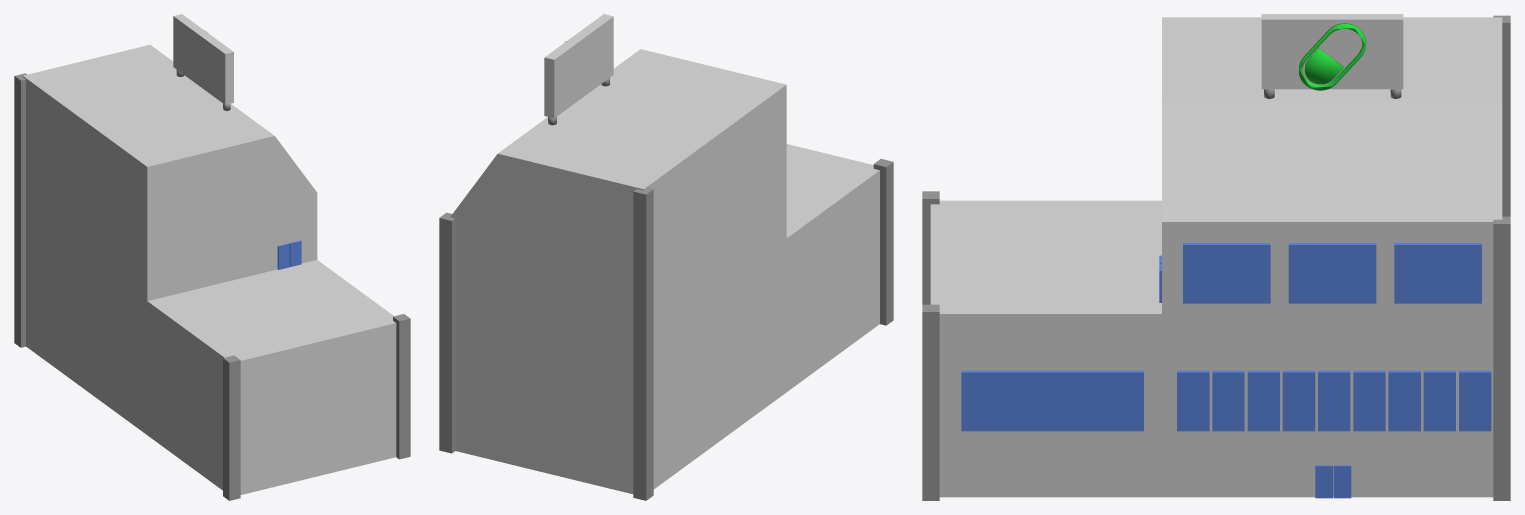
Rendered from hospital.fbx.
The picture shows the model from 3 angles, left to right: view 1: azimuth 30°, elevation 25°; view 2: azimuth 150°, elevation 25°; view 3: azimuth 270°, elevation 25°; orthographic projection. The views are drawn at different scales.
Visible parts, largest first — view 1: Cube; view 2: Cube; view 3: Cube.
Part boxes in pixels (x1,y1,x2,y2): Cube: (14, 14, 410, 500); Cube: (439, 14, 893, 500); Cube: (922, 14, 1510, 500).
Size of the model in its own units: 1622 by 2797 by 3343.
